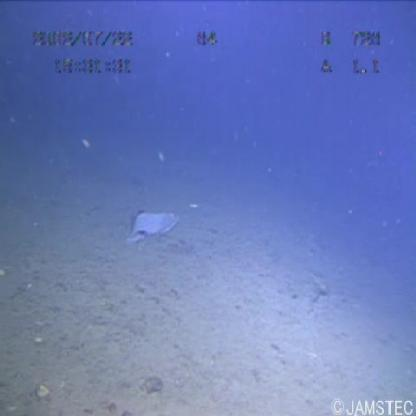Rác: (117, 203, 185, 251)
